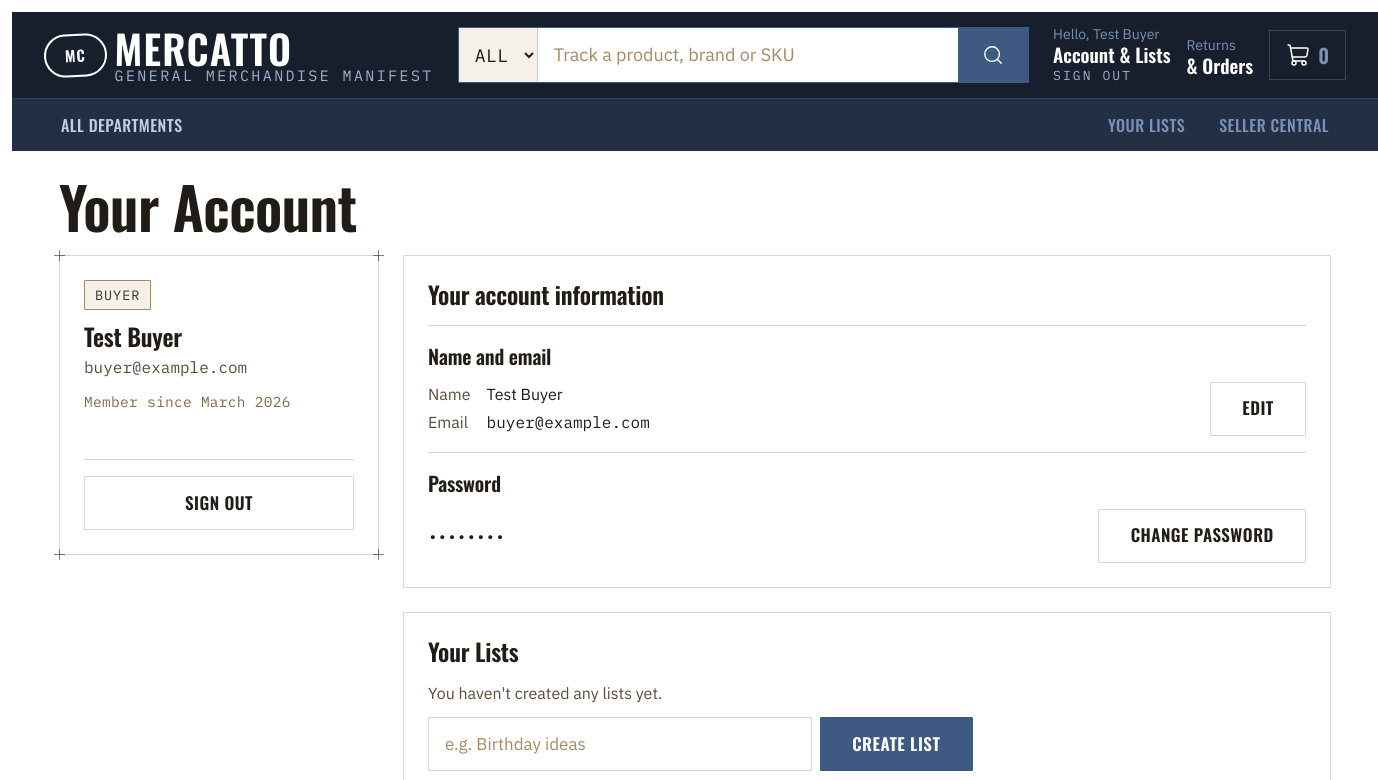
Test: Account page › signs out, goes home and clears the stored session
Expected: the heading "Test Buyer" is shown, [84,318,182,354]
Click the button "Sign out" below "Member since": (219, 503) [84,476,354,530]
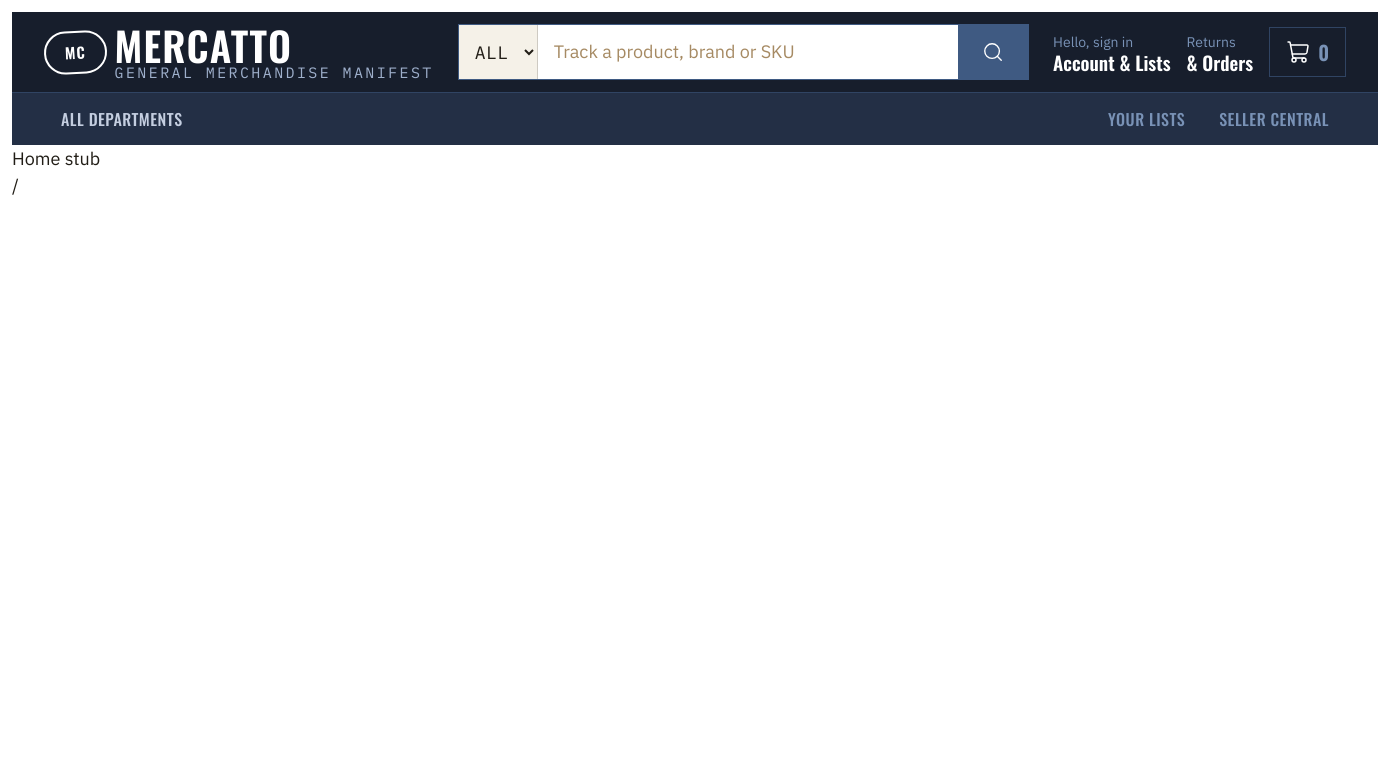
Now the text "Home stub" is shown, box [12,147,100,170]
